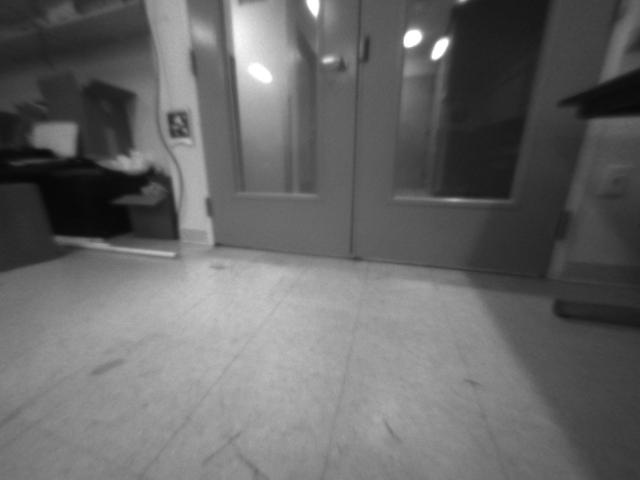door_handle: (317, 51, 347, 74)
